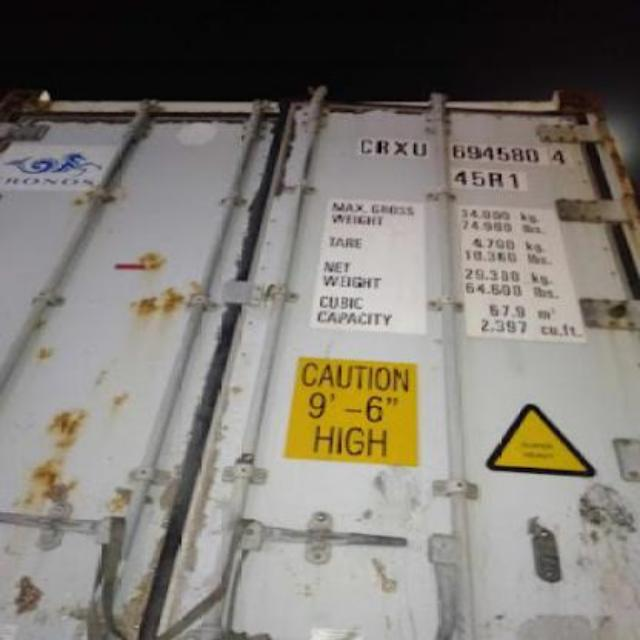0: (526, 145, 540, 165)
4: (552, 149, 566, 165), (482, 143, 494, 161)
5: (494, 144, 512, 164)
6: (452, 144, 466, 160)
8: (511, 146, 524, 164)
9: (468, 146, 480, 160)
C: (358, 138, 374, 154)
R: (376, 138, 389, 154)
U: (412, 143, 428, 159)
X: (394, 136, 410, 156)
